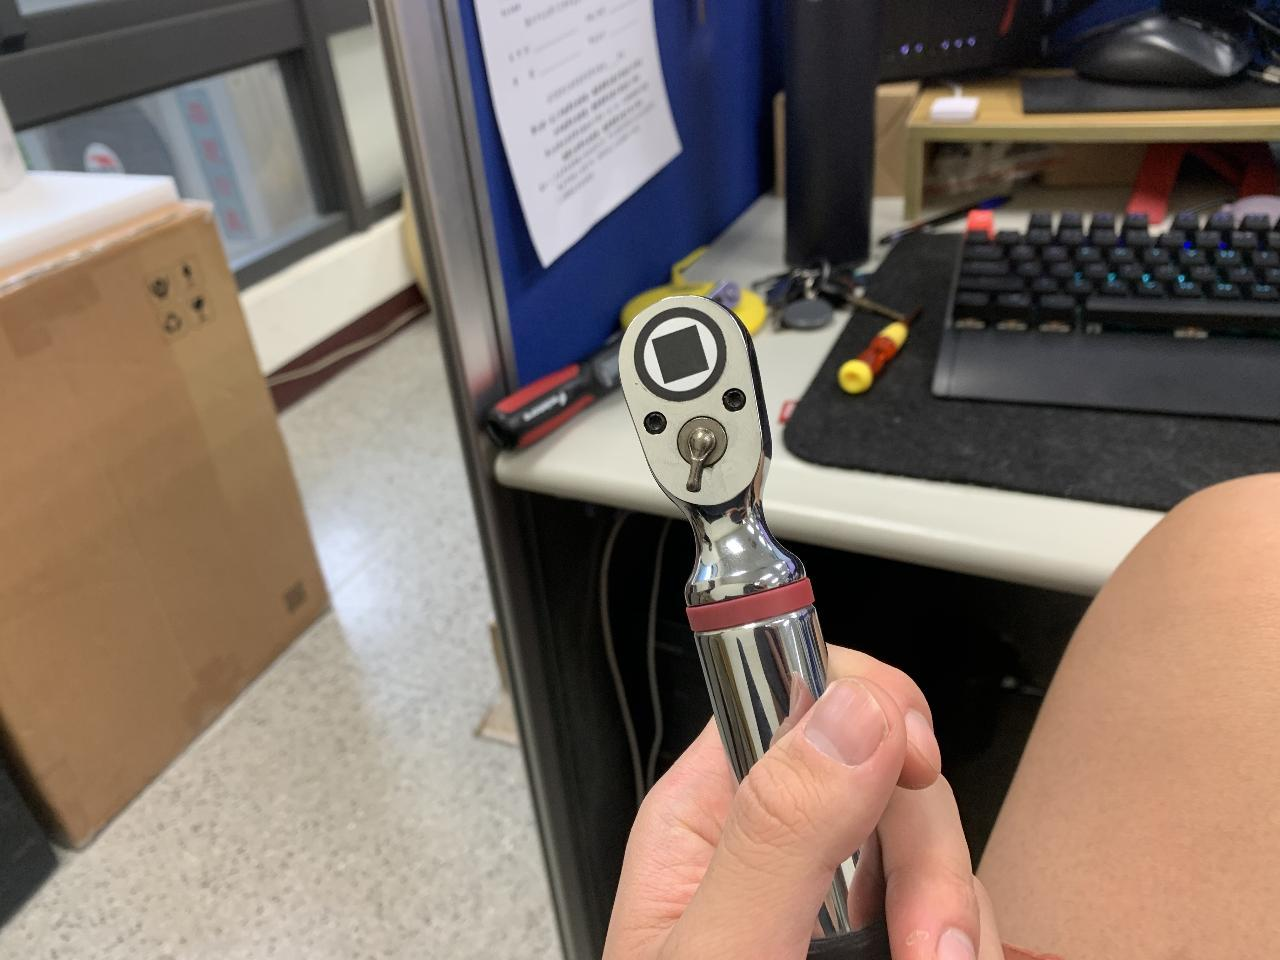Tool: (622, 286, 806, 590)
